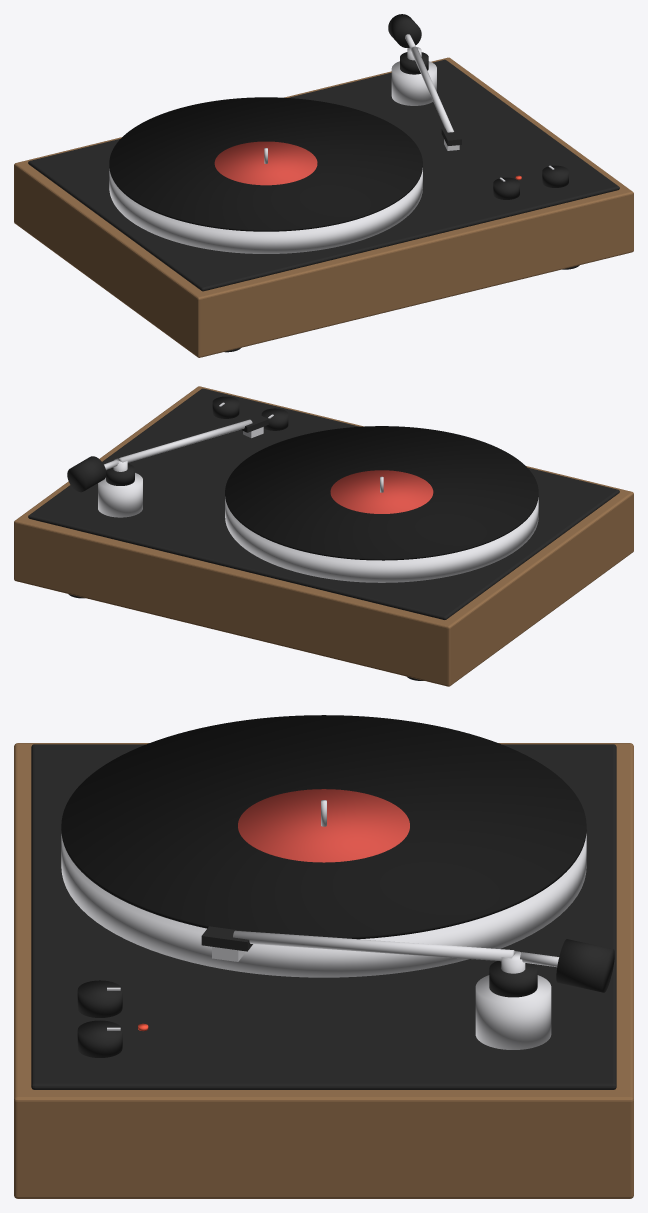
Rendered from RecordPlayer.fbx.
3 renders of one model, top to bottom at view 1: azimuth 30°, elevation 25°; view 2: azimuth 150°, elevation 25°; view 3: azimuth 270°, elevation 25°, orthographic. The views are drawn at different scales.
Visible parts, largest first — view 1: Base_Plinth, Platter_Label, Tonearm_PivotBase, Knob_LED; view 2: Base_Plinth, Platter_Label, Tonearm_PivotBase, Knob_LED; view 3: Base_Plinth, Platter_Label, Tonearm_PivotBase, Knob_LED.
Part boxes in pixels (x1,y1,x2,y2): Base_Plinth: (14, 57, 633, 357); Platter_Label: (109, 97, 422, 253); Tonearm_PivotBase: (388, 14, 461, 150); Knob_LED: (493, 165, 568, 199); Base_Plinth: (14, 386, 633, 686); Platter_Label: (225, 426, 538, 582); Tonearm_PivotBase: (67, 414, 268, 517); Knob_LED: (212, 396, 288, 430); Base_Plinth: (14, 743, 633, 1198); Platter_Label: (61, 715, 586, 977); Tonearm_PivotBase: (201, 926, 614, 1049); Knob_LED: (77, 980, 148, 1057).
Size of the model in its own units: 49 by 14.85 by 36.
